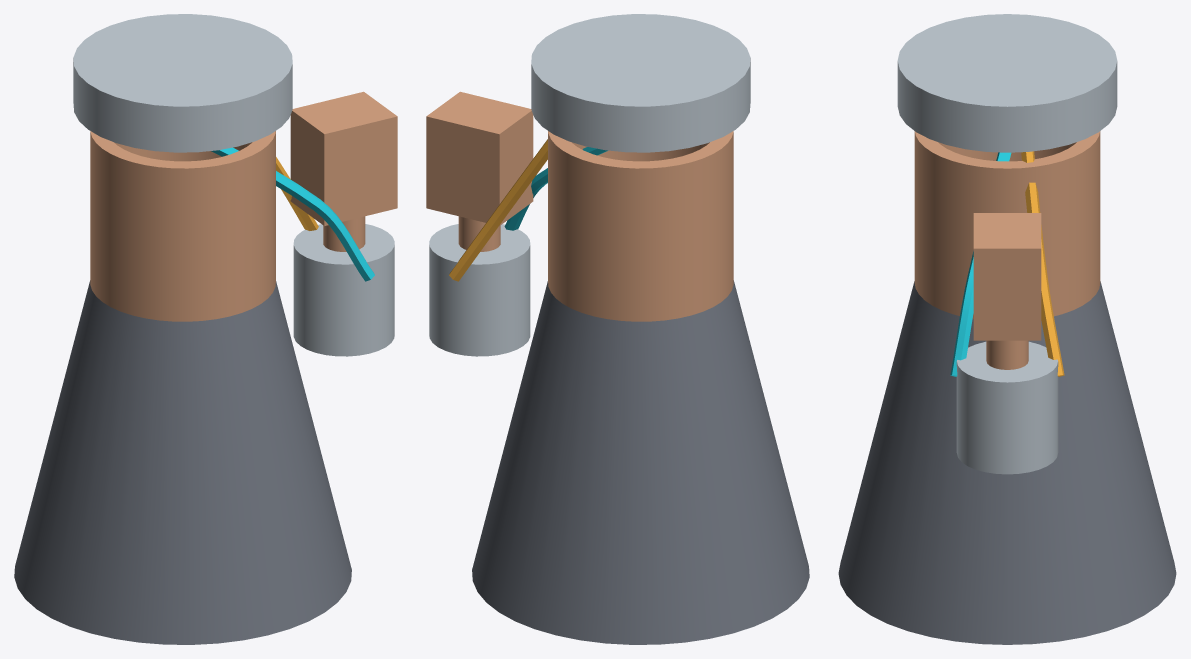
Rendered from engine_gas_generator.glb.
The picture shows the model from 3 angles, left to right: view 1: azimuth 30°, elevation 25°; view 2: azimuth 150°, elevation 25°; view 3: azimuth 270°, elevation 25°; orthographic projection.
Parts seen in each view (by area): view 1: nozzle, chamber, injector, gas-generator, turbopump, feed-lines, exhaust-duct; view 2: nozzle, chamber, injector, gas-generator, turbopump, feed-lines, exhaust-duct; view 3: nozzle, injector, chamber, turbopump, gas-generator, feed-lines, exhaust-duct.
Boxes of the visible parts, x1,y1,x2,y2 form: nozzle: (14,280,351,644); chamber: (90,131,275,321); injector: (73,14,292,152); gas-generator: (290,91,397,225); turbopump: (293,224,394,356); feed-lines: (211,147,374,281); exhaust-duct: (323,216,365,251); nozzle: (472,280,809,644); chamber: (548,131,733,321); injector: (531,14,750,152); gas-generator: (426,91,533,225); turbopump: (429,224,530,356); feed-lines: (449,139,607,281); exhaust-duct: (458,216,500,251); nozzle: (838,281,1176,644); injector: (897,14,1117,152); chamber: (914,131,1100,318); turbopump: (956,341,1058,474); gas-generator: (973,213,1041,340); feed-lines: (950,151,1064,376); exhaust-duct: (986,340,1028,369).
Size of the model in its own units: 0.48 by 0.67 by 0.4.
